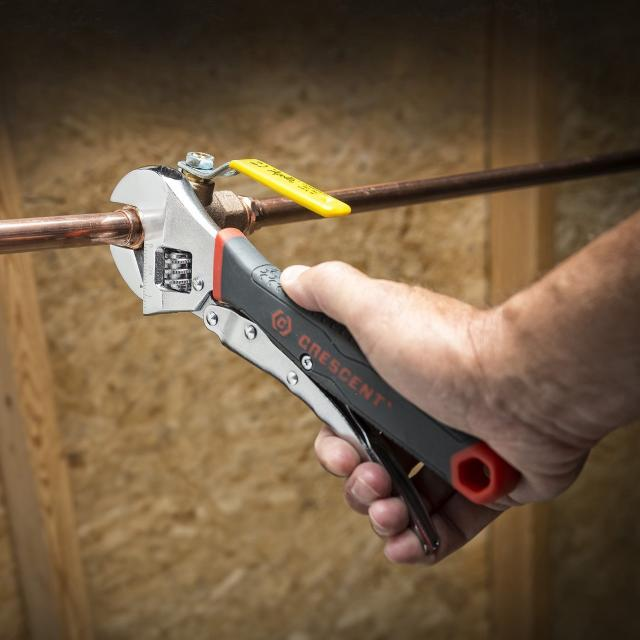wrench: (107, 158, 520, 508)
